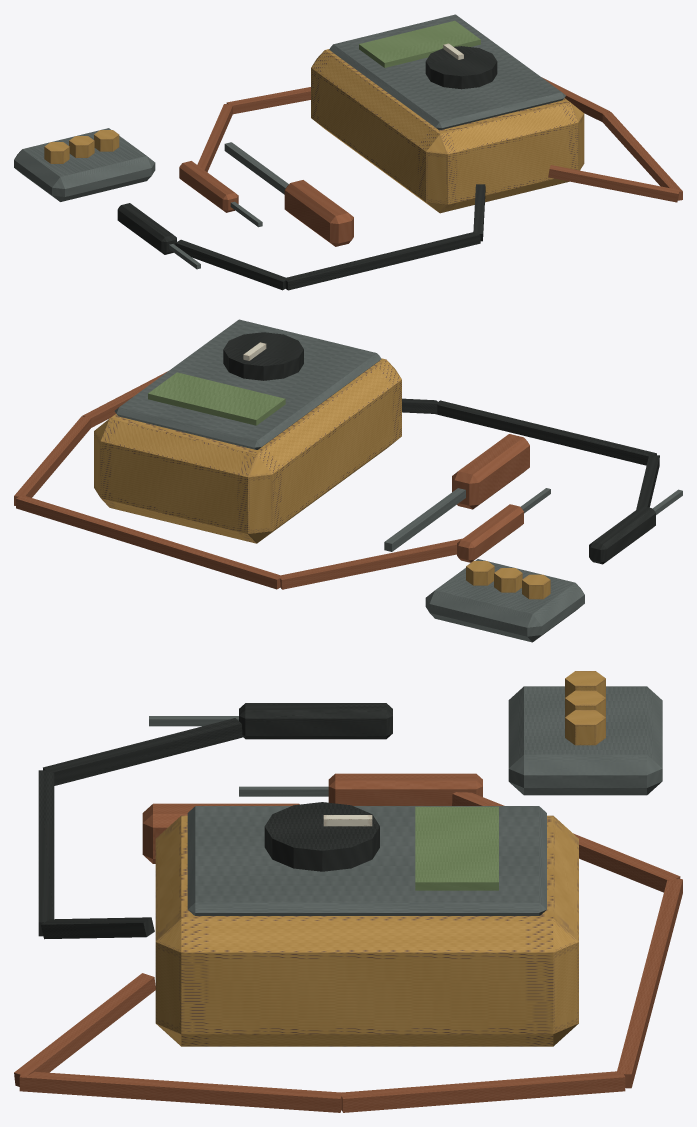
Rendered from RepairTools.fbx.
The picture shows the model from 3 angles, top to bottom: view 1: azimuth 30°, elevation 25°; view 2: azimuth 150°, elevation 25°; view 3: azimuth 270°, elevation 25°; orthographic projection. The views are drawn at different scales.
Visible parts, largest first — view 1: RepairTools; view 2: RepairTools; view 3: RepairTools.
Boxes of the visible parts, box(x1,y1,x2,y2) form: RepairTools: box(14, 14, 682, 290); RepairTools: box(14, 319, 682, 642); RepairTools: box(14, 671, 682, 1112).
Size of the model in its own units: 73.09 by 15.3 by 52.13.
